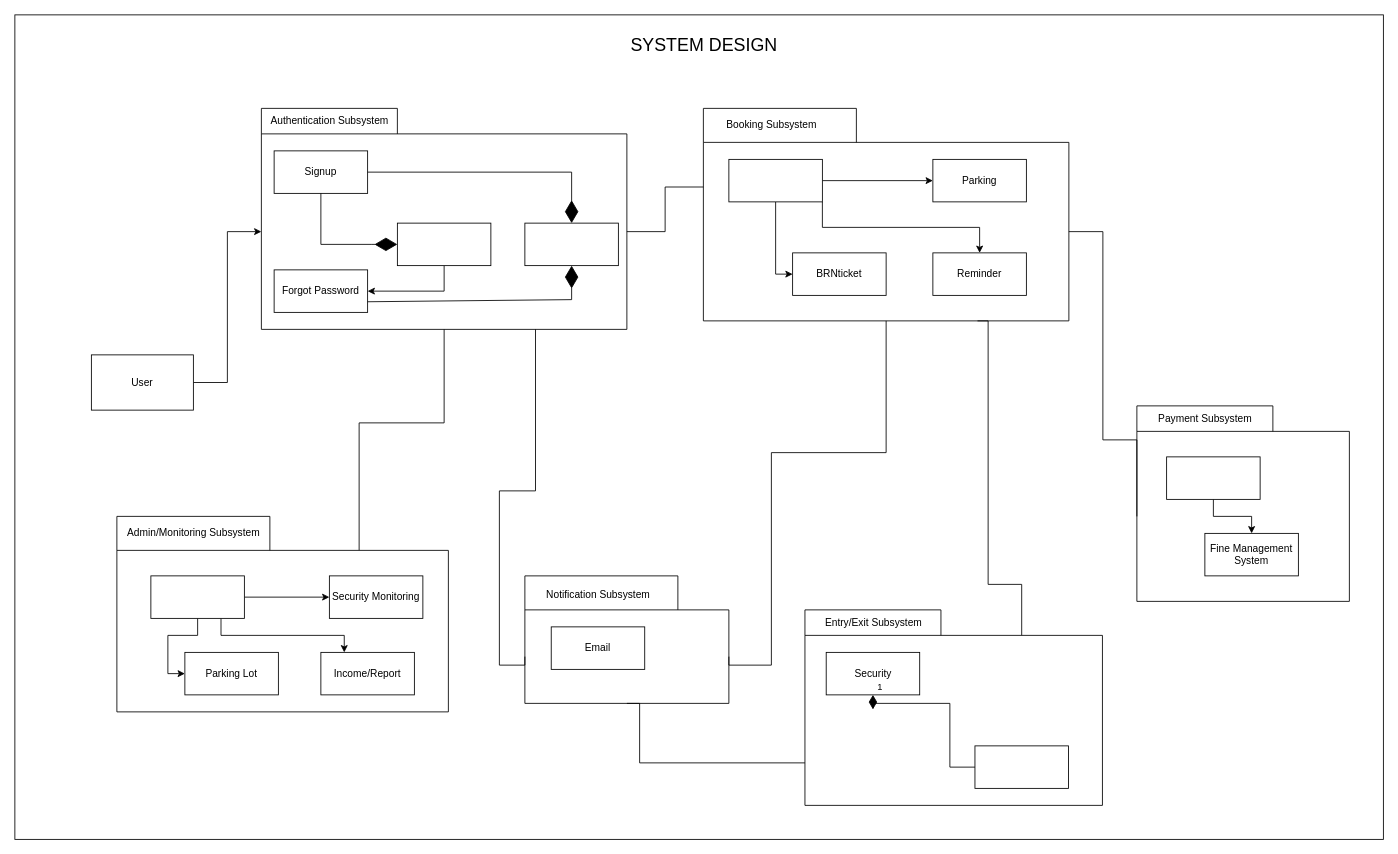
Some shapes in this 1398 by 854 pixel diagram are drawn without their labels. The centre of each missing label's shape, as x and y in pixels:
Admin: pixel 197 596
Booking: pixel 775 180
Email Service: pixel 571 244
Entry/Exit Interface: pixel 1021 766
Login: pixel 444 244
Payment: pixel 1213 477
